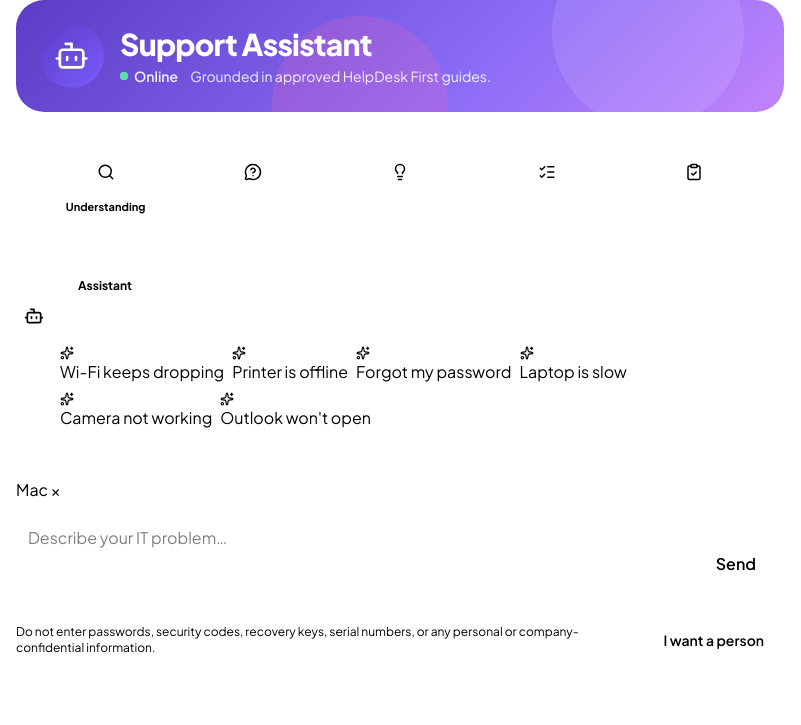
Scenario: AssistantWorkspace › does not send a blank person request and focuses the composer
This screenshot has width=801, height=725.
Click the button "I want a person" at point(714, 640), box [644,618,784,662]
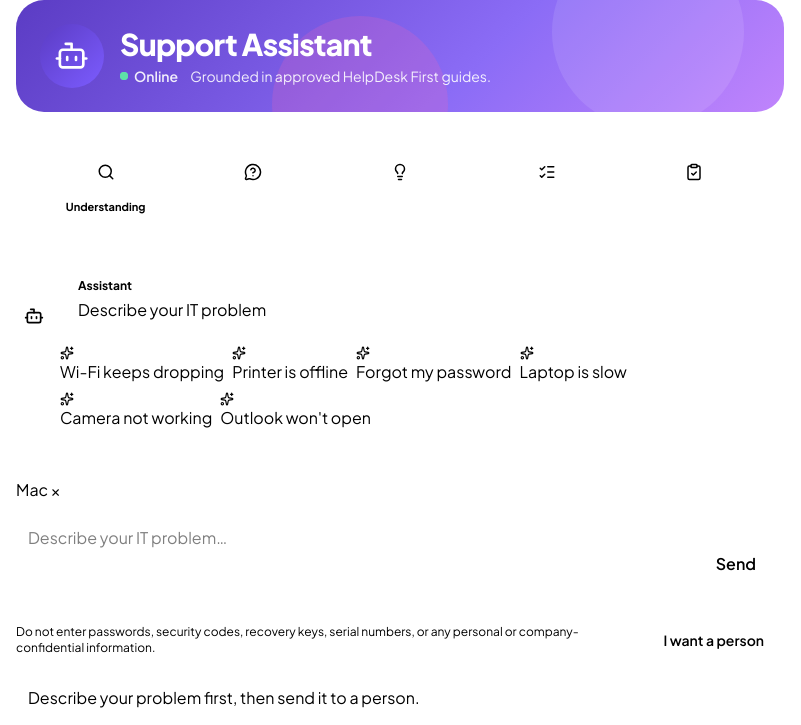
Check: the message reads "Describe your problem first, then send it to a person.", box [28,687,420,708]
